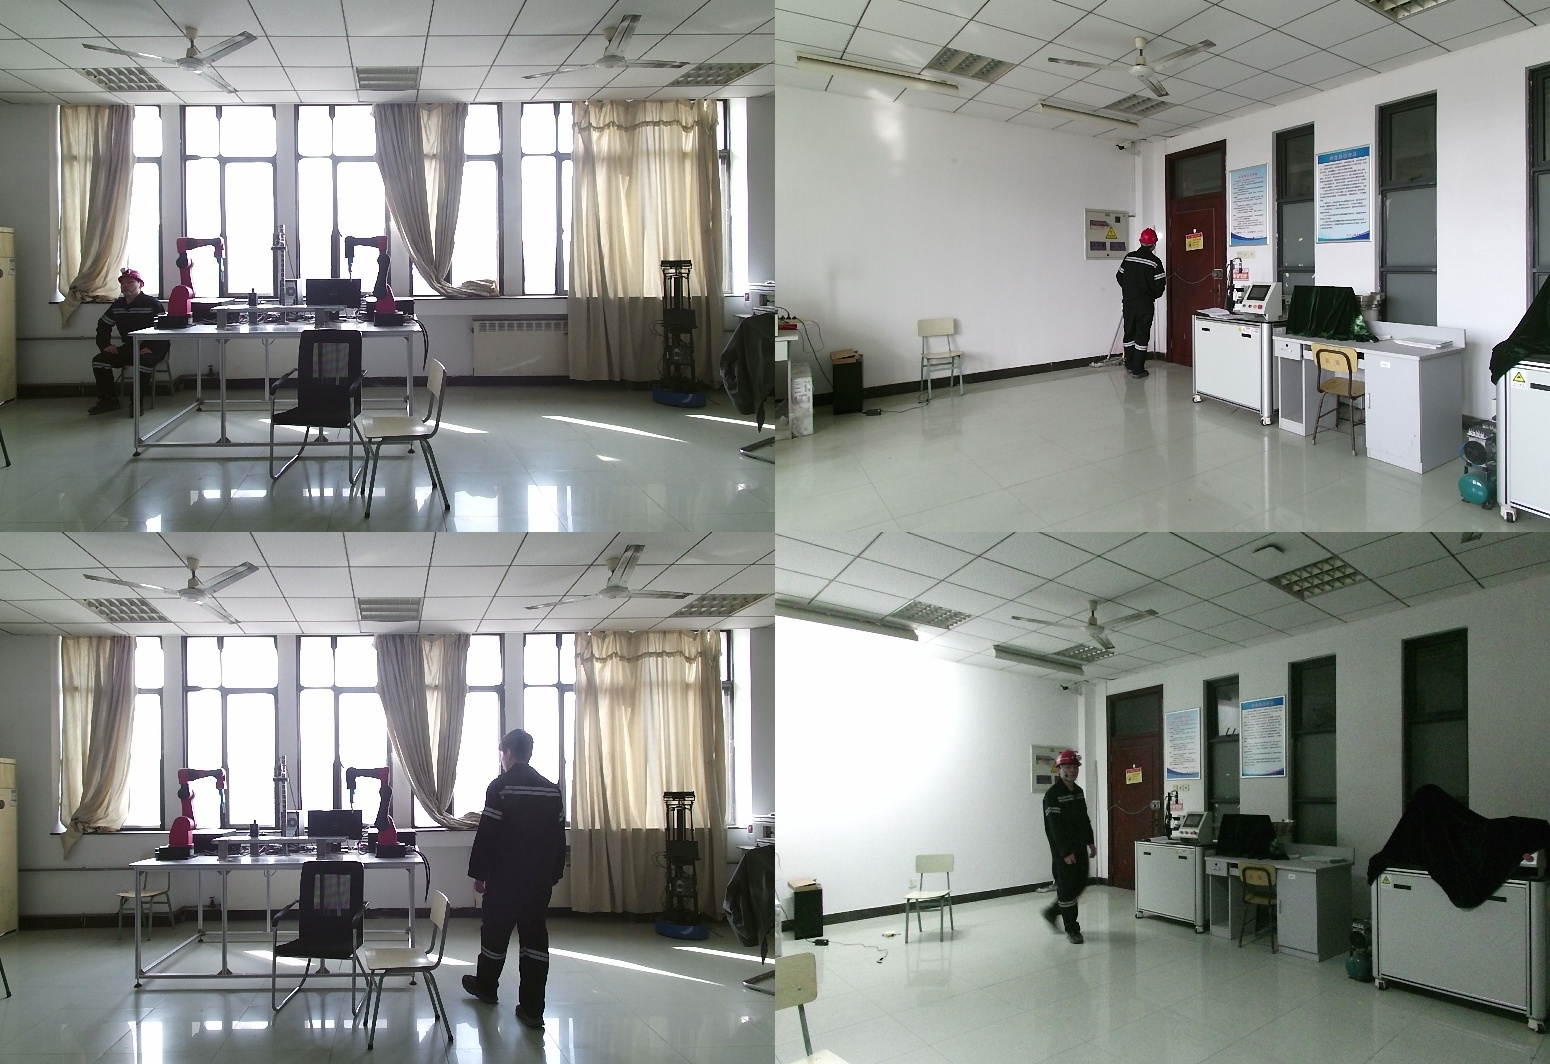person: (461, 732, 574, 1026), (80, 270, 179, 415), (1032, 752, 1093, 951), (1114, 229, 1171, 382)
